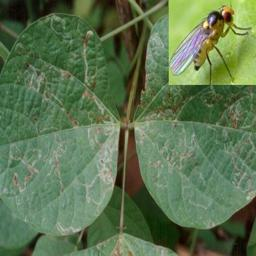liriomyza: (169, 2, 252, 85), (85, 112, 120, 205), (220, 129, 256, 203), (146, 129, 198, 177), (18, 61, 66, 113), (81, 29, 104, 112), (5, 147, 41, 193), (46, 132, 68, 199), (54, 219, 81, 235)
